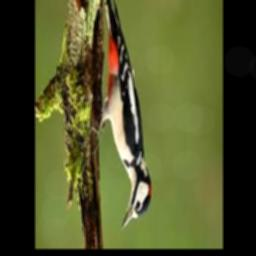Woodpecker: (89, 0, 151, 231)
